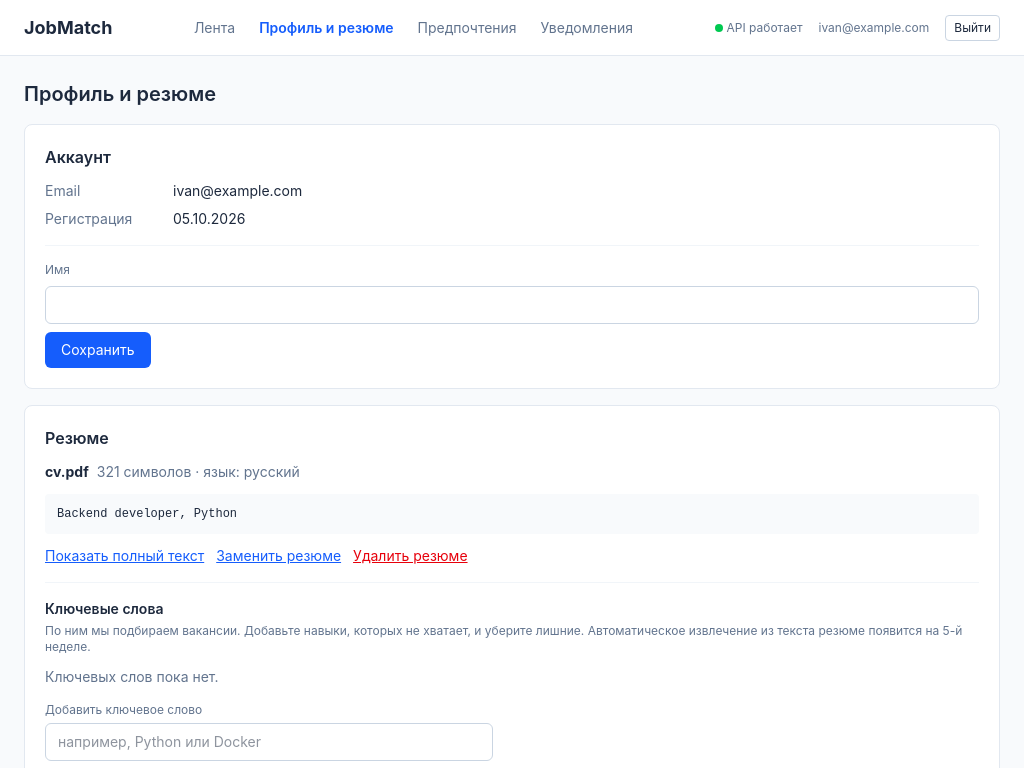
Test: резюме › показывает файл, язык и по кнопке полный текст
Expected: the text "cv.pdf" is shown, [45,463,89,480]
Expected: the text "321 символов · язык: русский" is shown, [97,463,300,480]
Click the button "Показать полный текст".
click(125, 556)  # box [45,546,204,566]
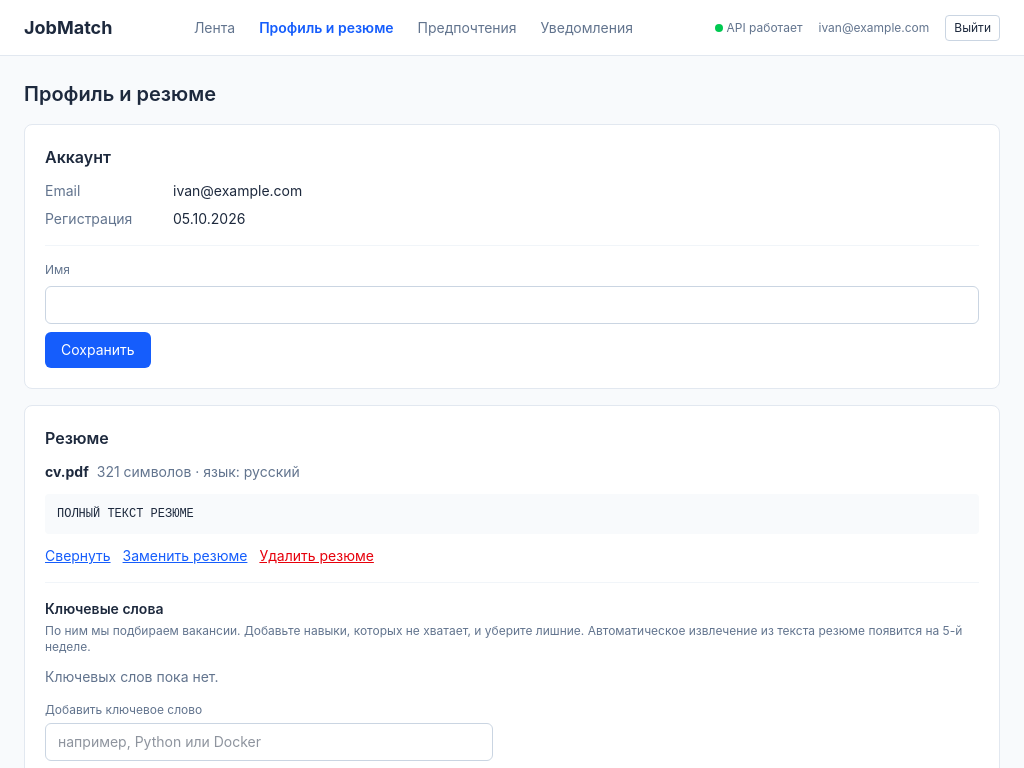
Expected: the text "ПОЛНЫЙ ТЕКСТ РЕЗЮМЕ" is shown, [45,494,979,534]
Click the button "Свернуть".
click(78, 556)  # box [45,546,110,566]
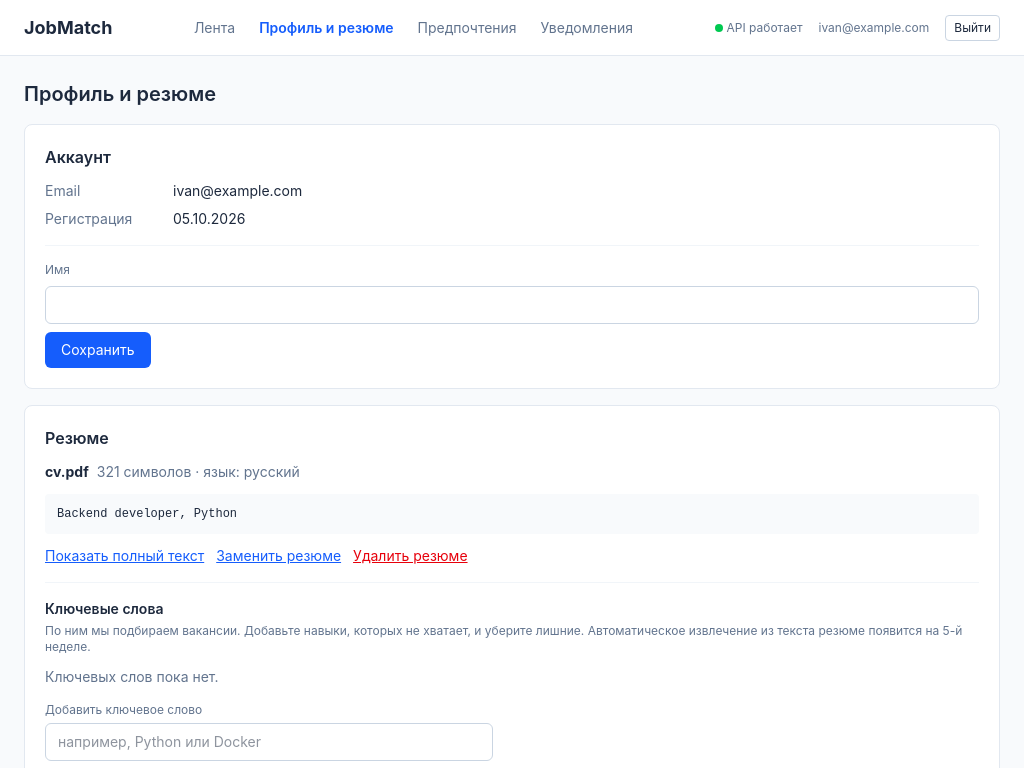
Expected: the text "Backend developer, Python" is shown, [45,494,979,534]
